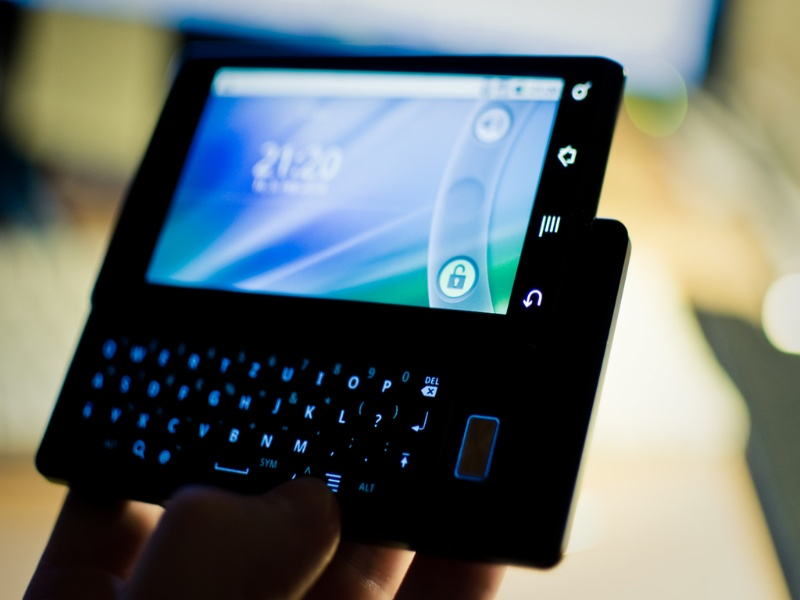cellphone: (93, 63, 630, 569)
